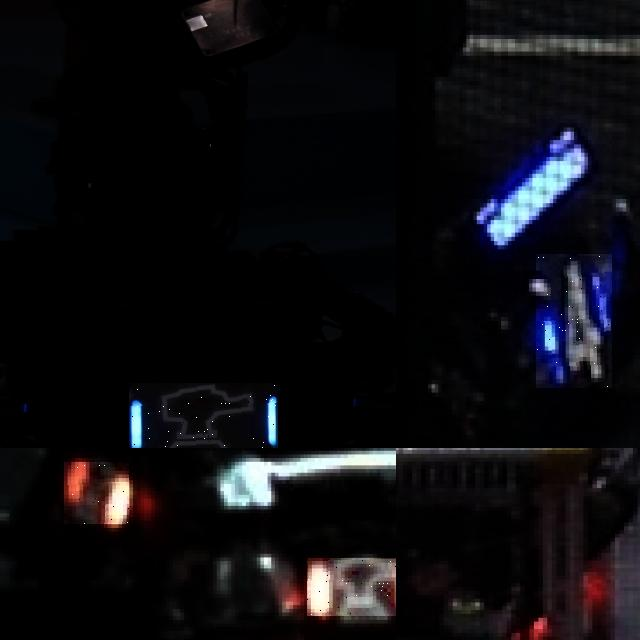B4: (536, 254, 612, 388)
Bs: (128, 383, 278, 448)
Rs: (307, 557, 396, 616), (64, 462, 129, 524)
